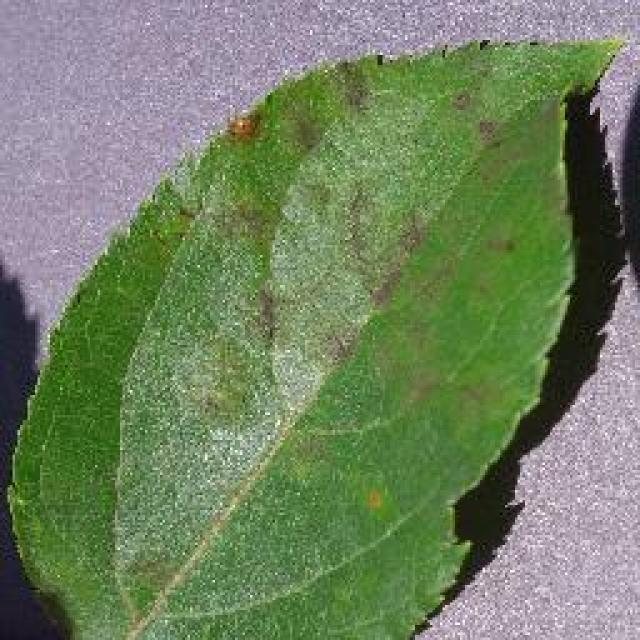apple scab disease: (2, 32, 638, 638)
